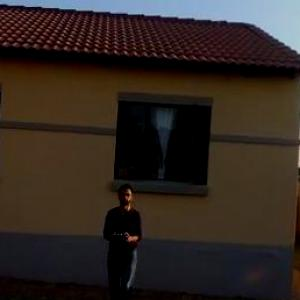follow: (98, 180, 148, 299)
